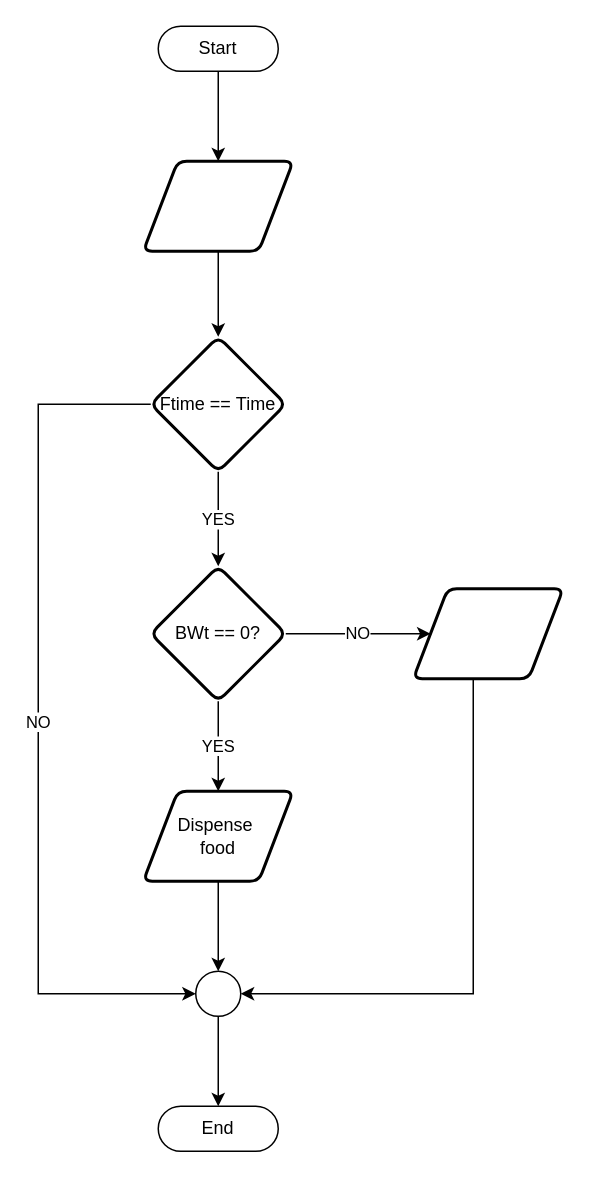
Image size: 591x1178. Some labels were removed from this diagram. Each missing label, with the box of its shape:
Alert Shop Owner: (411, 586, 564, 680)
FTime, BWt, Time: (141, 159, 294, 252)
